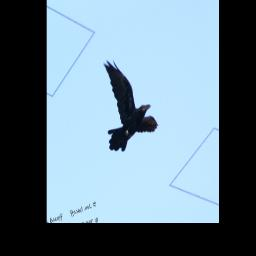Crow: (99, 44, 160, 156)
